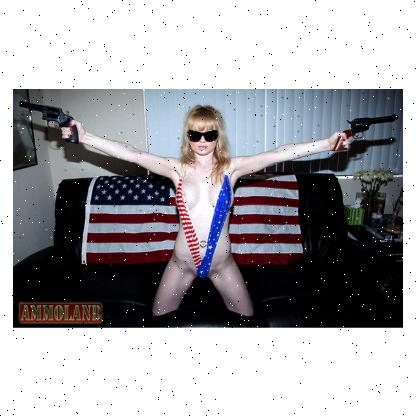gun: (17, 99, 80, 143), (334, 113, 398, 153)
